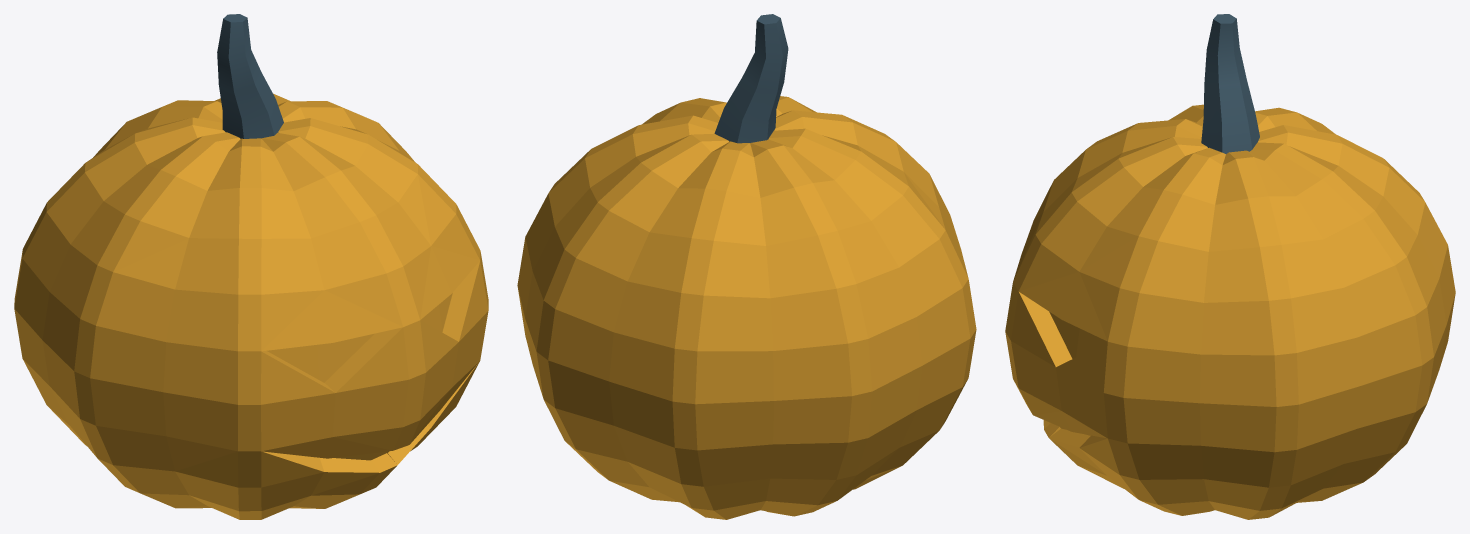
Rendered from pumpkin.fbx.
3 views of the same model, side by side, from view 1: azimuth 30°, elevation 25°; view 2: azimuth 150°, elevation 25°; view 3: azimuth 270°, elevation 25° (orthographic). The views are drawn at different scales.
Parts seen in each view (by area): view 1: PUMPKIN.002, PUMPKIN.001, PUMPKIN.003, PUMPKIN.004, pumpkin, PUMPKIN.005; view 2: PUMPKIN.003, PUMPKIN.002, pumpkin, PUMPKIN.005; view 3: PUMPKIN.003, PUMPKIN.004, pumpkin, PUMPKIN.001, PUMPKIN.002.
Part boxes in pixels (x1,y1,x2,y2): PUMPKIN.002: [14, 203, 261, 485]; PUMPKIN.001: [113, 215, 419, 519]; PUMPKIN.003: [46, 93, 430, 271]; PUMPKIN.004: [376, 164, 488, 464]; pumpkin: [217, 14, 283, 138]; PUMPKIN.005: [113, 466, 211, 508]; PUMPKIN.003: [517, 96, 945, 461]; PUMPKIN.002: [609, 142, 976, 519]; pumpkin: [714, 14, 788, 143]; PUMPKIN.005: [576, 449, 900, 502]; PUMPKIN.003: [1071, 104, 1446, 451]; PUMPKIN.004: [1005, 202, 1415, 519]; pumpkin: [1201, 14, 1259, 153]; PUMPKIN.001: [1013, 150, 1123, 488]; PUMPKIN.002: [1418, 202, 1455, 369].
Bounding box in the file's own units: 3.4 × 3.84 × 3.4.
